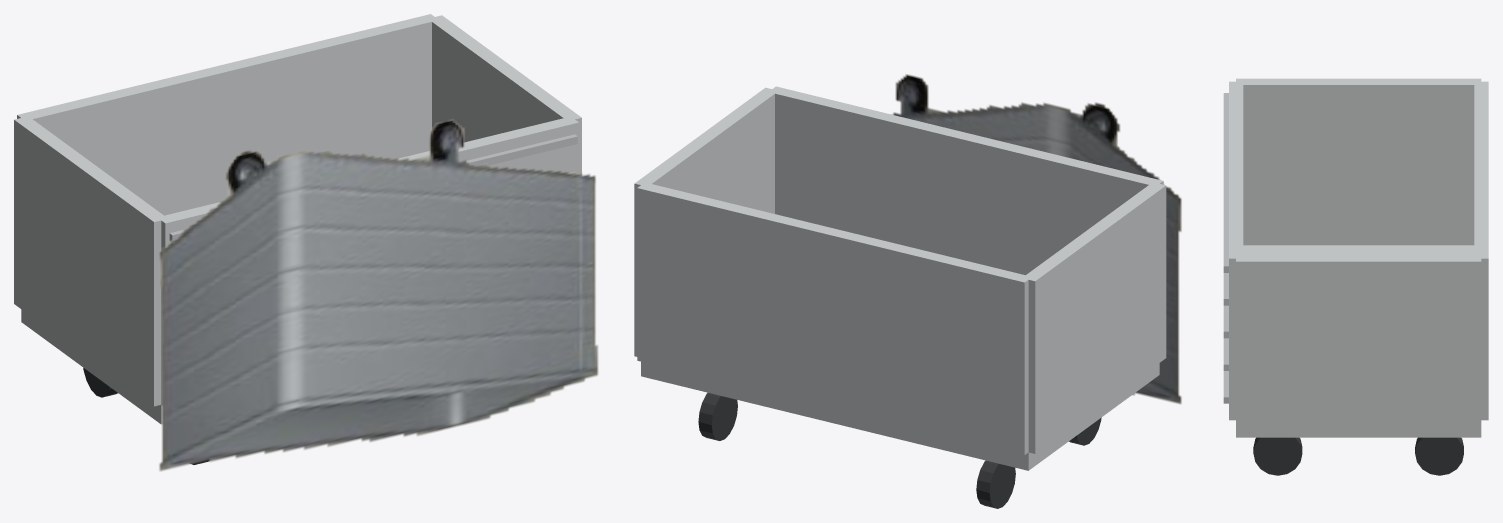
File: linen-trolley.glb
3 renders of one model, left to right at view 1: azimuth 30°, elevation 25°; view 2: azimuth 150°, elevation 25°; view 3: azimuth 270°, elevation 25°, orthographic. The views are drawn at different scales.
Parts seen in each view (by area): view 1: front_decal, back, left, right, front, bottom, rib0.9; view 2: back, front, left, front_decal, right, bottom, wheel-0.52-0.28, wheel0.52-0.28; view 3: right, left, bottom, back, front, wheel0.520.28, wheel0.52-0.28, rib0.9.
Part boxes in pixels (bbox=[...]): front_decal: bbox=[159, 119, 598, 471]; back: bbox=[17, 14, 438, 215]; left: bbox=[14, 118, 164, 406]; right: bbox=[432, 15, 581, 175]; front: bbox=[157, 117, 578, 405]; bottom: bbox=[21, 309, 162, 424]; rib0.9: bbox=[169, 134, 577, 241]; back: bbox=[637, 182, 1031, 454]; front: bbox=[769, 86, 1163, 275]; left: bbox=[1026, 184, 1166, 453]; front_decal: bbox=[892, 74, 1181, 404]; right: bbox=[634, 87, 774, 356]; bottom: bbox=[641, 361, 1159, 470]; wheel-0.52-0.28: bbox=[976, 460, 1015, 508]; wheel0.52-0.28: bbox=[698, 393, 737, 440]; right: bbox=[1236, 255, 1481, 423]; left: bbox=[1236, 78, 1481, 245]; bottom: bbox=[1236, 245, 1481, 437]; back: bbox=[1474, 81, 1488, 420]; front: bbox=[1229, 81, 1243, 420]; wheel0.520.28: bbox=[1253, 437, 1302, 475]; wheel0.52-0.28: bbox=[1415, 437, 1463, 475]; rib0.9: bbox=[1223, 93, 1228, 272].
Size of the model in its own units: 1.59 by 1.15 by 0.94.
4 materials, 1 textured.
